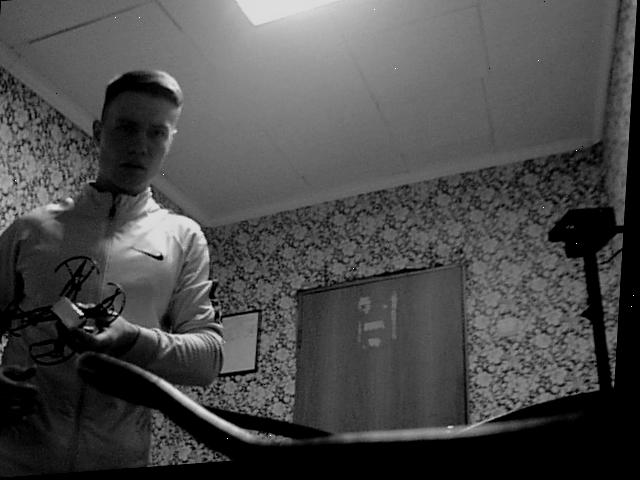drone: (0, 244, 138, 375)
